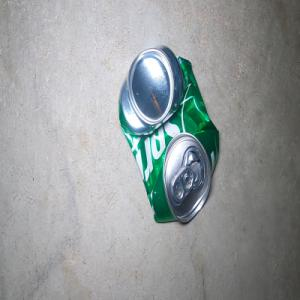SodaCan: (118, 44, 219, 223)
